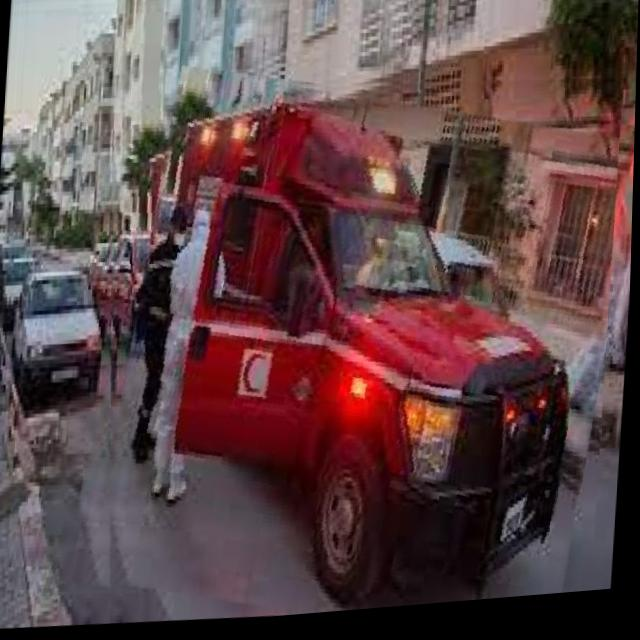ambulance: (81, 55, 625, 634)
